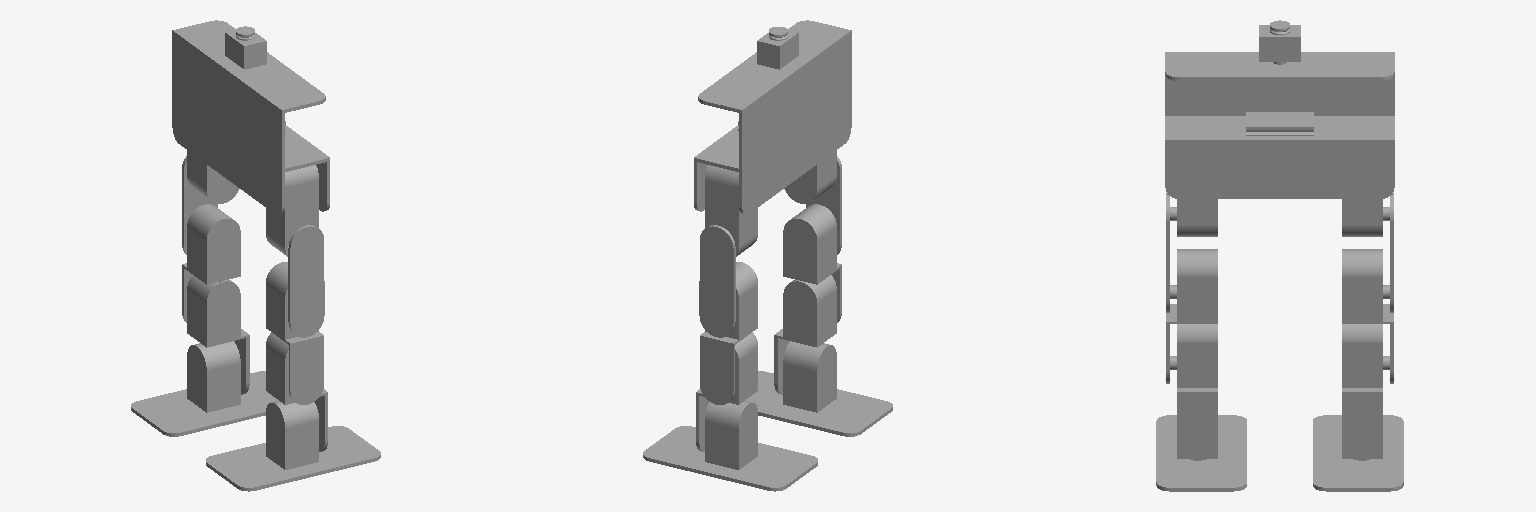
robot.urdf — robot_urd:
<?xml version="1.0" ?>
<!-- =================================================================================== -->
<!-- |    This document was autogenerated by xacro from robot_urd.xacro                | -->
<!-- |    EDITING THIS FILE BY HAND IS NOT RECOMMENDED                                 | -->
<!-- =================================================================================== -->
<robot name="robot_urd">
  <material name="silver">
    <color rgba="0.700 0.700 0.700 1.000"/>
  </material>
  <transmission name="Revolute 2_tran">
    <type>transmission_interface/SimpleTransmission</type>
    <joint name="Revolute 2">
      <hardwareInterface>hardware_interface/EffortJointInterface</hardwareInterface>
    </joint>
    <actuator name="Revolute 2_actr">
      <hardwareInterface>hardware_interface/EffortJointInterface</hardwareInterface>
      <mechanicalReduction>1</mechanicalReduction>
    </actuator>
  </transmission>
  <transmission name="Revolute 4_tran">
    <type>transmission_interface/SimpleTransmission</type>
    <joint name="Revolute 4">
      <hardwareInterface>hardware_interface/EffortJointInterface</hardwareInterface>
    </joint>
    <actuator name="Revolute 4_actr">
      <hardwareInterface>hardware_interface/EffortJointInterface</hardwareInterface>
      <mechanicalReduction>1</mechanicalReduction>
    </actuator>
  </transmission>
  <transmission name="Revolute 5_tran">
    <type>transmission_interface/SimpleTransmission</type>
    <joint name="Revolute 5">
      <hardwareInterface>hardware_interface/EffortJointInterface</hardwareInterface>
    </joint>
    <actuator name="Revolute 5_actr">
      <hardwareInterface>hardware_interface/EffortJointInterface</hardwareInterface>
      <mechanicalReduction>1</mechanicalReduction>
    </actuator>
  </transmission>
  <transmission name="Revolute 6_tran">
    <type>transmission_interface/SimpleTransmission</type>
    <joint name="Revolute 6">
      <hardwareInterface>hardware_interface/EffortJointInterface</hardwareInterface>
    </joint>
    <actuator name="Revolute 6_actr">
      <hardwareInterface>hardware_interface/EffortJointInterface</hardwareInterface>
      <mechanicalReduction>1</mechanicalReduction>
    </actuator>
  </transmission>
  <transmission name="Revolute 7_tran">
    <type>transmission_interface/SimpleTransmission</type>
    <joint name="Revolute 7">
      <hardwareInterface>hardware_interface/EffortJointInterface</hardwareInterface>
    </joint>
    <actuator name="Revolute 7_actr">
      <hardwareInterface>hardware_interface/EffortJointInterface</hardwareInterface>
      <mechanicalReduction>1</mechanicalReduction>
    </actuator>
  </transmission>
  <transmission name="Revolute 8_tran">
    <type>transmission_interface/SimpleTransmission</type>
    <joint name="Revolute 8">
      <hardwareInterface>hardware_interface/EffortJointInterface</hardwareInterface>
    </joint>
    <actuator name="Revolute 8_actr">
      <hardwareInterface>hardware_interface/EffortJointInterface</hardwareInterface>
      <mechanicalReduction>1</mechanicalReduction>
    </actuator>
  </transmission>
  <transmission name="Revolute 9_tran">
    <type>transmission_interface/SimpleTransmission</type>
    <joint name="Revolute 9">
      <hardwareInterface>hardware_interface/EffortJointInterface</hardwareInterface>
    </joint>
    <actuator name="Revolute 9_actr">
      <hardwareInterface>hardware_interface/EffortJointInterface</hardwareInterface>
      <mechanicalReduction>1</mechanicalReduction>
    </actuator>
  </transmission>
  <transmission name="Revolute 10_tran">
    <type>transmission_interface/SimpleTransmission</type>
    <joint name="Revolute 10">
      <hardwareInterface>hardware_interface/EffortJointInterface</hardwareInterface>
    </joint>
    <actuator name="Revolute 10_actr">
      <hardwareInterface>hardware_interface/EffortJointInterface</hardwareInterface>
      <mechanicalReduction>1</mechanicalReduction>
    </actuator>
  </transmission>
  <transmission name="Revolute 11_tran">
    <type>transmission_interface/SimpleTransmission</type>
    <joint name="Revolute 11">
      <hardwareInterface>hardware_interface/EffortJointInterface</hardwareInterface>
    </joint>
    <actuator name="Revolute 11_actr">
      <hardwareInterface>hardware_interface/EffortJointInterface</hardwareInterface>
      <mechanicalReduction>1</mechanicalReduction>
    </actuator>
  </transmission>
  <transmission name="Revolute 12_tran">
    <type>transmission_interface/SimpleTransmission</type>
    <joint name="Revolute 12">
      <hardwareInterface>hardware_interface/EffortJointInterface</hardwareInterface>
    </joint>
    <actuator name="Revolute 12_actr">
      <hardwareInterface>hardware_interface/EffortJointInterface</hardwareInterface>
      <mechanicalReduction>1</mechanicalReduction>
    </actuator>
  </transmission>
  <transmission name="Revolute 13_tran">
    <type>transmission_interface/SimpleTransmission</type>
    <joint name="Revolute 13">
      <hardwareInterface>hardware_interface/EffortJointInterface</hardwareInterface>
    </joint>
    <actuator name="Revolute 13_actr">
      <hardwareInterface>hardware_interface/EffortJointInterface</hardwareInterface>
      <mechanicalReduction>1</mechanicalReduction>
    </actuator>
  </transmission>
  <gazebo>
    <plugin filename="libgazebo_ros_control.so" name="control"/>
  </gazebo>
  <gazebo reference="base_link">
    <material>Gazebo/Silver</material>
    <mu1>0.2</mu1>
    <mu2>0.2</mu2>
    <selfCollide>true</selfCollide>
    <gravity>true</gravity>
  </gazebo>
  <gazebo reference="lidar_1">
    <material>Gazebo/Silver</material>
    <mu1>0.2</mu1>
    <mu2>0.2</mu2>
    <selfCollide>true</selfCollide>
  </gazebo>
  <gazebo reference="head_1">
    <material>Gazebo/Silver</material>
    <mu1>0.2</mu1>
    <mu2>0.2</mu2>
    <selfCollide>true</selfCollide>
  </gazebo>
  <gazebo reference="imu_1">
    <material>Gazebo/Silver</material>
    <mu1>0.2</mu1>
    <mu2>0.2</mu2>
    <selfCollide>true</selfCollide>
  </gazebo>
  <gazebo reference="left_pelvis_1">
    <material>Gazebo/Silver</material>
    <mu1>0.2</mu1>
    <mu2>0.2</mu2>
    <selfCollide>true</selfCollide>
  </gazebo>
  <gazebo reference="right_pelvis_1">
    <material>Gazebo/Silver</material>
    <mu1>0.2</mu1>
    <mu2>0.2</mu2>
    <selfCollide>true</selfCollide>
  </gazebo>
  <gazebo reference="right_tight_1">
    <material>Gazebo/Silver</material>
    <mu1>0.2</mu1>
    <mu2>0.2</mu2>
    <selfCollide>true</selfCollide>
  </gazebo>
  <gazebo reference="right_knee_1">
    <material>Gazebo/Silver</material>
    <mu1>0.2</mu1>
    <mu2>0.2</mu2>
    <selfCollide>true</selfCollide>
  </gazebo>
  <gazebo reference="right_ankle_1">
    <material>Gazebo/Silver</material>
    <mu1>0.2</mu1>
    <mu2>0.2</mu2>
    <selfCollide>true</selfCollide>
  </gazebo>
  <gazebo reference="right_foot_1">
    <material>Gazebo/Silver</material>
    <mu1>0.2</mu1>
    <mu2>0.2</mu2>
    <selfCollide>true</selfCollide>
  </gazebo>
  <gazebo reference="left_tight_1">
    <material>Gazebo/Silver</material>
    <mu1>0.2</mu1>
    <mu2>0.2</mu2>
    <selfCollide>true</selfCollide>
  </gazebo>
  <gazebo reference="left_knee_1">
    <material>Gazebo/Silver</material>
    <mu1>0.2</mu1>
    <mu2>0.2</mu2>
    <selfCollide>true</selfCollide>
  </gazebo>
  <gazebo reference="left_ankle_1">
    <material>Gazebo/Silver</material>
    <mu1>0.2</mu1>
    <mu2>0.2</mu2>
    <selfCollide>true</selfCollide>
  </gazebo>
  <gazebo reference="left_foot_1">
    <material>Gazebo/Silver</material>
    <mu1>0.2</mu1>
    <mu2>0.2</mu2>
    <selfCollide>true</selfCollide>
  </gazebo>
  <link name="base_link">
    <inertial>
      <origin rpy="0 0 0" xyz="0.06302135621902447 -0.001654303303745368 0.26447733595472356"/>
      <mass value="0.8825876155637866"/>
      <inertia ixx="0.002729" ixy="-3e-06" ixz="9.3e-05" iyy="0.001002" iyz="-4.5e-05" izz="0.002223"/>
    </inertial>
    <visual>
      <origin rpy="0 0 0" xyz="0 0 0"/>
      <geometry>
        <mesh filename="package://robot_urd_description/meshes/base_link.stl" scale="0.001 0.001 0.001"/>
      </geometry>
      <material name="silver"/>
    </visual>
    <collision>
      <origin rpy="0 0 0" xyz="0 0 0"/>
      <geometry>
        <mesh filename="package://robot_urd_description/meshes/base_link.stl" scale="0.001 0.001 0.001"/>
      </geometry>
    </collision>
  </link>
  <link name="lidar_1">
    <inertial>
      <origin rpy="0 0 0" xyz="-1.3506771797955341e-06 -5.748661631606658e-05 0.0015504335164893135"/>
      <mass value="0.003984887751598981"/>
      <inertia ixx="0.0" ixy="0.0" ixz="-0.0" iyy="0.0" iyz="-0.0" izz="0.0"/>
    </inertial>
    <visual>
      <origin rpy="0 0 0" xyz="-0.061274 0.004181 -0.336022"/>
      <geometry>
        <mesh filename="package://robot_urd_description/meshes/lidar_1.stl" scale="0.001 0.001 0.001"/>
      </geometry>
      <material name="silver"/>
    </visual>
    <collision>
      <origin rpy="0 0 0" xyz="-0.061274 0.004181 -0.336022"/>
      <geometry>
        <mesh filename="package://robot_urd_description/meshes/lidar_1.stl" scale="0.001 0.001 0.001"/>
      </geometry>
    </collision>
  </link>
  <link name="head_1">
    <inertial>
      <origin rpy="0 0 0" xyz="-1.59672157926255e-05 -0.0004380575565104748 0.01197783415502518"/>
      <mass value="0.09646075336203239"/>
      <inertia ixx="1e-05" ixy="-0.0" ixz="0.0" iyy="7e-06" iyz="-0.0" izz="1e-05"/>
    </inertial>
    <visual>
      <origin rpy="0 0 0" xyz="-0.0616 0.003419 -0.312367"/>
      <geometry>
        <mesh filename="package://robot_urd_description/meshes/head_1.stl" scale="0.001 0.001 0.001"/>
      </geometry>
      <material name="silver"/>
    </visual>
    <collision>
      <origin rpy="0 0 0" xyz="-0.0616 0.003419 -0.312367"/>
      <geometry>
        <mesh filename="package://robot_urd_description/meshes/head_1.stl" scale="0.001 0.001 0.001"/>
      </geometry>
    </collision>
  </link>
  <link name="imu_1">
    <inertial>
      <origin rpy="0 0 0" xyz="0.0008064627033654431 -9.300821719877166e-05 0.0025287835840761552"/>
      <mass value="0.04827749999999997"/>
      <inertia ixx="1e-05" ixy="0.0" ixz="-0.0" iyy="3e-06" iyz="-0.0" izz="1.2e-05"/>
    </inertial>
    <visual>
      <origin rpy="0 0 0" xyz="-0.069374 0.001578 -0.262406"/>
      <geometry>
        <mesh filename="package://robot_urd_description/meshes/imu_1.stl" scale="0.001 0.001 0.001"/>
      </geometry>
      <material name="silver"/>
    </visual>
    <collision>
      <origin rpy="0 0 0" xyz="-0.069374 0.001578 -0.262406"/>
      <geometry>
        <mesh filename="package://robot_urd_description/meshes/imu_1.stl" scale="0.001 0.001 0.001"/>
      </geometry>
    </collision>
  </link>
  <link name="left_pelvis_1">
    <inertial>
      <origin rpy="0 0 0" xyz="0.01795751005501258 0.00014168014442148685 -0.024981592738119313"/>
      <mass value="0.5234143660816903"/>
      <inertia ixx="0.00028" ixy="-0.0" ixz="1e-06" iyy="0.00028" iyz="1e-06" izz="7.6e-05"/>
    </inertial>
    <visual>
      <origin rpy="0 0 0" xyz="-0.050144 -0.059262 -0.240709"/>
      <geometry>
        <mesh filename="package://robot_urd_description/meshes/left_pelvis_1.stl" scale="0.001 0.001 0.001"/>
      </geometry>
      <material name="silver"/>
    </visual>
    <collision>
      <origin rpy="0 0 0" xyz="-0.050144 -0.059262 -0.240709"/>
      <geometry>
        <mesh filename="package://robot_urd_description/meshes/left_pelvis_1.stl" scale="0.001 0.001 0.001"/>
      </geometry>
    </collision>
  </link>
  <link name="right_pelvis_1">
    <inertial>
      <origin rpy="0 0 0" xyz="0.01795699759739125 0.00011312298216949179 -0.024981817255673278"/>
      <mass value="0.5234143660816912"/>
      <inertia ixx="0.00028" ixy="-0.0" ixz="1e-06" iyy="0.00028" iyz="1e-06" izz="7.6e-05"/>
    </inertial>
    <visual>
      <origin rpy="0 0 0" xyz="-0.050147 0.060657 -0.236291"/>
      <geometry>
        <mesh filename="package://robot_urd_description/meshes/right_pelvis_1.stl" scale="0.001 0.001 0.001"/>
      </geometry>
      <material name="silver"/>
    </visual>
    <collision>
      <origin rpy="0 0 0" xyz="-0.050147 0.060657 -0.236291"/>
      <geometry>
        <mesh filename="package://robot_urd_description/meshes/right_pelvis_1.stl" scale="0.001 0.001 0.001"/>
      </geometry>
    </collision>
  </link>
  <link name="right_tight_1">
    <inertial>
      <origin rpy="0 0 0" xyz="1.3131126348805977e-05 -0.0031878102092162824 -0.0315229550344438"/>
      <mass value="0.06375845443348595"/>
      <inertia ixx="4.1e-05" ixy="-0.0" ixz="0.0" iyy="4.6e-05" iyz="0.0" izz="4e-06"/>
    </inertial>
    <visual>
      <origin rpy="0 0 0" xyz="-0.068177 0.078327 -0.18818"/>
      <geometry>
        <mesh filename="package://robot_urd_description/meshes/right_tight_1.stl" scale="0.001 0.001 0.001"/>
      </geometry>
      <material name="silver"/>
    </visual>
    <collision>
      <origin rpy="0 0 0" xyz="-0.068177 0.078327 -0.18818"/>
      <geometry>
        <mesh filename="package://robot_urd_description/meshes/right_tight_1.stl" scale="0.001 0.001 0.001"/>
      </geometry>
    </collision>
  </link>
  <link name="right_knee_1">
    <inertial>
      <origin rpy="0 0 0" xyz="-7.702639705647885e-07 0.01571586630320984 0.000655329465449217"/>
      <mass value="0.386658515888616"/>
      <inertia ixx="0.000204" ixy="0.0" ixz="0.0" iyy="0.000189" iyz="-3.6e-05" izz="6.9e-05"/>
    </inertial>
    <visual>
      <origin rpy="0 0 0" xyz="-0.068216 0.077896 -0.125181"/>
      <geometry>
        <mesh filename="package://robot_urd_description/meshes/right_knee_1.stl" scale="0.001 0.001 0.001"/>
      </geometry>
      <material name="silver"/>
    </visual>
    <collision>
      <origin rpy="0 0 0" xyz="-0.068216 0.077896 -0.125181"/>
      <geometry>
        <mesh filename="package://robot_urd_description/meshes/right_knee_1.stl" scale="0.001 0.001 0.001"/>
      </geometry>
    </collision>
  </link>
  <link name="right_ankle_1">
    <inertial>
      <origin rpy="0 0 0" xyz="0.0021982763757750212 0.01788953828995568 0.0046541659224381"/>
      <mass value="0.38668550638021726"/>
      <inertia ixx="0.00019" ixy="-0.0" ixz="3.6e-05" iyy="0.000202" iyz="1e-06" izz="7e-05"/>
    </inertial>
    <visual>
      <origin rpy="0 0 0" xyz="-0.068251 0.077505 -0.068183"/>
      <geometry>
        <mesh filename="package://robot_urd_description/meshes/right_ankle_1.stl" scale="0.001 0.001 0.001"/>
      </geometry>
      <material name="silver"/>
    </visual>
    <collision>
      <origin rpy="0 0 0" xyz="-0.068251 0.077505 -0.068183"/>
      <geometry>
        <mesh filename="package://robot_urd_description/meshes/right_ankle_1.stl" scale="0.001 0.001 0.001"/>
      </geometry>
    </collision>
  </link>
  <link name="right_foot_1">
    <inertial>
      <origin rpy="0 0 0" xyz="-0.017024280857820984 0.0011175257093816726 -0.002681142128240008"/>
      <mass value="0.5246231337400495"/>
      <inertia ixx="0.000231" ixy="-1e-06" ixz="7e-06" iyy="0.00041" iyz="9e-06" izz="0.000365"/>
    </inertial>
    <visual>
      <origin rpy="0 0 0" xyz="-0.086284 0.059142 -0.015318"/>
      <geometry>
        <mesh filename="package://robot_urd_description/meshes/right_foot_1.stl" scale="0.001 0.001 0.001"/>
      </geometry>
      <material name="silver"/>
    </visual>
    <collision>
      <origin rpy="0 0 0" xyz="-0.086284 0.059142 -0.015318"/>
      <geometry>
        <mesh filename="package://robot_urd_description/meshes/right_foot_1.stl" scale="0.001 0.001 0.001"/>
      </geometry>
    </collision>
  </link>
  <link name="left_tight_1">
    <inertial>
      <origin rpy="0 0 0" xyz="-0.002151588340230909 0.003508611690805394 -0.031415461868238376"/>
      <mass value="0.0637584544337173"/>
      <inertia ixx="4.1e-05" ixy="0.0" ixz="-2e-06" iyy="4.6e-05" iyz="0.0" izz="5e-06"/>
    </inertial>
    <visual>
      <origin rpy="0 0 0" xyz="-0.068174 -0.077422 -0.192781"/>
      <geometry>
        <mesh filename="package://robot_urd_description/meshes/left_tight_1.stl" scale="0.001 0.001 0.001"/>
      </geometry>
      <material name="silver"/>
    </visual>
    <collision>
      <origin rpy="0 0 0" xyz="-0.068174 -0.077422 -0.192781"/>
      <geometry>
        <mesh filename="package://robot_urd_description/meshes/left_tight_1.stl" scale="0.001 0.001 0.001"/>
      </geometry>
    </collision>
  </link>
  <link name="left_knee_1">
    <inertial>
      <origin rpy="0 0 0" xyz="3.6978467971585105e-05 -0.01572099317087619 0.0004937283037185491"/>
      <mass value="0.386658515888616"/>
      <inertia ixx="0.000203" ixy="3e-06" ixz="-9e-06" iyy="0.000188" iyz="3.7e-05" izz="7e-05"/>
    </inertial>
    <visual>
      <origin rpy="0 0 0" xyz="-0.063883 -0.077632 -0.129927"/>
      <geometry>
        <mesh filename="package://robot_urd_description/meshes/left_knee_1.stl" scale="0.001 0.001 0.001"/>
      </geometry>
      <material name="silver"/>
    </visual>
    <collision>
      <origin rpy="0 0 0" xyz="-0.063883 -0.077632 -0.129927"/>
      <geometry>
        <mesh filename="package://robot_urd_description/meshes/left_knee_1.stl" scale="0.001 0.001 0.001"/>
      </geometry>
    </collision>
  </link>
  <link name="left_ankle_1">
    <inertial>
      <origin rpy="0 0 0" xyz="0.0022012220104688923 -0.017936491479911477 0.004470456835236988"/>
      <mass value="0.38668550972567756"/>
      <inertia ixx="0.00019" ixy="-0.0" ixz="3.6e-05" iyy="0.000202" iyz="1e-06" izz="7e-05"/>
    </inertial>
    <visual>
      <origin rpy="0 0 0" xyz="-0.06 -0.077823 -0.07306"/>
      <geometry>
        <mesh filename="package://robot_urd_description/meshes/left_ankle_1.stl" scale="0.001 0.001 0.001"/>
      </geometry>
      <material name="silver"/>
    </visual>
    <collision>
      <origin rpy="0 0 0" xyz="-0.06 -0.077823 -0.07306"/>
      <geometry>
        <mesh filename="package://robot_urd_description/meshes/left_ankle_1.stl" scale="0.001 0.001 0.001"/>
      </geometry>
    </collision>
  </link>
  <link name="left_foot_1">
    <inertial>
      <origin rpy="0 0 0" xyz="-0.017025617718688837 -0.00109945180645684 -0.0026785348014080473"/>
      <mass value="0.5246231337400495"/>
      <inertia ixx="0.000231" ixy="1e-06" ixz="8e-06" iyy="0.00041" iyz="-9e-06" izz="0.000365"/>
    </inertial>
    <visual>
      <origin rpy="0 0 0" xyz="-0.078 -0.06 -0.02"/>
      <geometry>
        <mesh filename="package://robot_urd_description/meshes/left_foot_1.stl" scale="0.001 0.001 0.001"/>
      </geometry>
      <material name="silver"/>
    </visual>
    <collision>
      <origin rpy="0 0 0" xyz="-0.078 -0.06 -0.02"/>
      <geometry>
        <mesh filename="package://robot_urd_description/meshes/left_foot_1.stl" scale="0.001 0.001 0.001"/>
      </geometry>
    </collision>
  </link>
  <joint name="Rigid 1" type="fixed">
    <origin rpy="0 0 0" xyz="-0.000326 -0.000762 0.023655"/>
    <parent link="head_1"/>
    <child link="lidar_1"/>
  </joint>
  <joint name="Revolute 2" type="continuous">
    <origin rpy="0 0 0" xyz="0.0616 -0.003419 0.312367"/>
    <parent link="base_link"/>
    <child link="head_1"/>
    <axis xyz="-0.000619 -0.036817 0.999322"/>
  </joint>
  <joint name="Rigid 3" type="fixed">
    <origin rpy="0 0 0" xyz="0.069374 -0.001578 0.262406"/>
    <parent link="base_link"/>
    <child link="imu_1"/>
  </joint>
  <joint name="Revolute 4" type="continuous">
    <origin rpy="0 0 0" xyz="0.050144 0.059262 0.240709"/>
    <parent link="base_link"/>
    <child link="left_pelvis_1"/>
    <axis xyz="1.0 -2e-06 0.000619"/>
  </joint>
  <joint name="Revolute 5" type="continuous">
    <origin rpy="0 0 0" xyz="0.050147 -0.060657 0.236291"/>
    <parent link="base_link"/>
    <child link="right_pelvis_1"/>
    <axis xyz="1.0 -2e-06 0.000619"/>
  </joint>
  <joint name="Revolute 6" type="continuous">
    <origin rpy="0 0 0" xyz="0.01803 -0.01767 -0.048111"/>
    <parent link="right_pelvis_1"/>
    <child link="right_tight_1"/>
    <axis xyz="2e-06 -0.999977 -0.006853"/>
  </joint>
  <joint name="Revolute 7" type="continuous">
    <origin rpy="0 0 0" xyz="3.9e-05 0.000431 -0.062999"/>
    <parent link="right_tight_1"/>
    <child link="right_knee_1"/>
    <axis xyz="-2e-06 0.999977 0.006853"/>
  </joint>
  <joint name="Revolute 8" type="continuous">
    <origin rpy="0 0 0" xyz="3.5e-05 0.000391 -0.056998"/>
    <parent link="right_knee_1"/>
    <child link="right_ankle_1"/>
    <axis xyz="-2e-06 0.999977 0.006853"/>
  </joint>
  <joint name="Revolute 9" type="continuous">
    <origin rpy="0 0 0" xyz="0.018033 0.018363 -0.052865"/>
    <parent link="right_ankle_1"/>
    <child link="right_foot_1"/>
    <axis xyz="-1.0 2e-06 -0.000619"/>
  </joint>
  <joint name="Revolute 10" type="continuous">
    <origin rpy="0 0 0" xyz="0.01803 0.01816 -0.047928"/>
    <parent link="left_pelvis_1"/>
    <child link="left_tight_1"/>
    <axis xyz="0.0 0.999994 0.003345"/>
  </joint>
  <joint name="Revolute 11" type="continuous">
    <origin rpy="0 0 0" xyz="-0.004291 0.00021 -0.062854"/>
    <parent link="left_tight_1"/>
    <child link="left_knee_1"/>
    <axis xyz="-0.0 -0.999994 -0.003345"/>
  </joint>
  <joint name="Revolute 12" type="continuous">
    <origin rpy="0 0 0" xyz="-0.003883 0.000191 -0.056867"/>
    <parent link="left_knee_1"/>
    <child link="left_ankle_1"/>
    <axis xyz="0.0 -0.999994 -0.003345"/>
  </joint>
  <joint name="Revolute 13" type="continuous">
    <origin rpy="0 0 0" xyz="0.018 -0.017823 -0.05306"/>
    <parent link="left_ankle_1"/>
    <child link="left_foot_1"/>
    <axis xyz="-1.0 -0.0 0.0"/>
  </joint>
</robot>

--- Facts derived from the render (not from the file) ---
The picture shows the robot from 3 angles, left to right: view 1: azimuth 30°, elevation 25°; view 2: azimuth 150°, elevation 25°; view 3: azimuth 270°, elevation 25°; orthographic projection.
Robot: robot_urd — 14 links, 13 joints (11 continuous, 2 fixed); root link base_link; default pose: all joints at 0.
Visible links, largest first — view 1: base_link, right_foot_1, left_foot_1, left_knee_1, right_knee_1, left_ankle_1, right_tight_1, right_pelvis_1, right_ankle_1, left_pelvis_1, head_1, left_tight_1; view 2: base_link, left_foot_1, right_foot_1, right_knee_1, left_knee_1, right_ankle_1, left_tight_1, left_pelvis_1, left_ankle_1, right_pelvis_1, head_1, right_tight_1; view 3: base_link, right_ankle_1, left_ankle_1, right_foot_1, left_foot_1, right_knee_1, left_knee_1, left_pelvis_1, right_pelvis_1, head_1, imu_1, right_tight_1 (+1 smaller).
Boxes of the visible links, left/top/right/bottom form: base_link: left=172, top=20, right=329, bottom=214; right_foot_1: left=206, top=401, right=380, bottom=491; left_foot_1: left=131, top=341, right=278, bottom=436; left_knee_1: left=182, top=204, right=240, bottom=322; right_knee_1: left=266, top=262, right=323, bottom=404; left_ankle_1: left=187, top=275, right=249, bottom=394; right_tight_1: left=288, top=225, right=324, bottom=337; right_pelvis_1: left=266, top=165, right=318, bottom=256; right_ankle_1: left=266, top=332, right=327, bottom=451; left_pelvis_1: left=187, top=150, right=239, bottom=203; head_1: left=225, top=29, right=266, bottom=69; left_tight_1: left=182, top=156, right=217, bottom=254; base_link: left=694, top=20, right=851, bottom=214; left_foot_1: left=643, top=401, right=817, bottom=491; right_foot_1: left=745, top=341, right=892, bottom=436; right_knee_1: left=783, top=204, right=841, bottom=322; left_knee_1: left=700, top=262, right=757, bottom=404; right_ankle_1: left=774, top=275, right=836, bottom=394; left_tight_1: left=699, top=225, right=735, bottom=337; left_pelvis_1: left=705, top=165, right=757, bottom=256; left_ankle_1: left=696, top=332, right=757, bottom=451; right_pelvis_1: left=784, top=150, right=836, bottom=203; head_1: left=757, top=29, right=798, bottom=69; right_tight_1: left=806, top=156, right=841, bottom=254; base_link: left=1165, top=52, right=1394, bottom=198; right_ankle_1: left=1173, top=324, right=1217, bottom=460; left_ankle_1: left=1342, top=324, right=1386, bottom=460; right_foot_1: left=1156, top=415, right=1246, bottom=491; left_foot_1: left=1313, top=415, right=1403, bottom=491; right_knee_1: left=1166, top=249, right=1217, bottom=383; left_knee_1: left=1342, top=249, right=1393, bottom=383; left_pelvis_1: left=1342, top=199, right=1386, bottom=236; right_pelvis_1: left=1173, top=199, right=1217, bottom=236; head_1: left=1259, top=25, right=1300, bottom=61; imu_1: left=1246, top=112, right=1313, bottom=131; right_tight_1: left=1166, top=193, right=1172, bottom=312.
Size in the robot's own frame: 0.125 by 0.18 by 0.3416 metres.
14 mesh visuals loaded from 14 distinct referenced files (14 binary STL).
